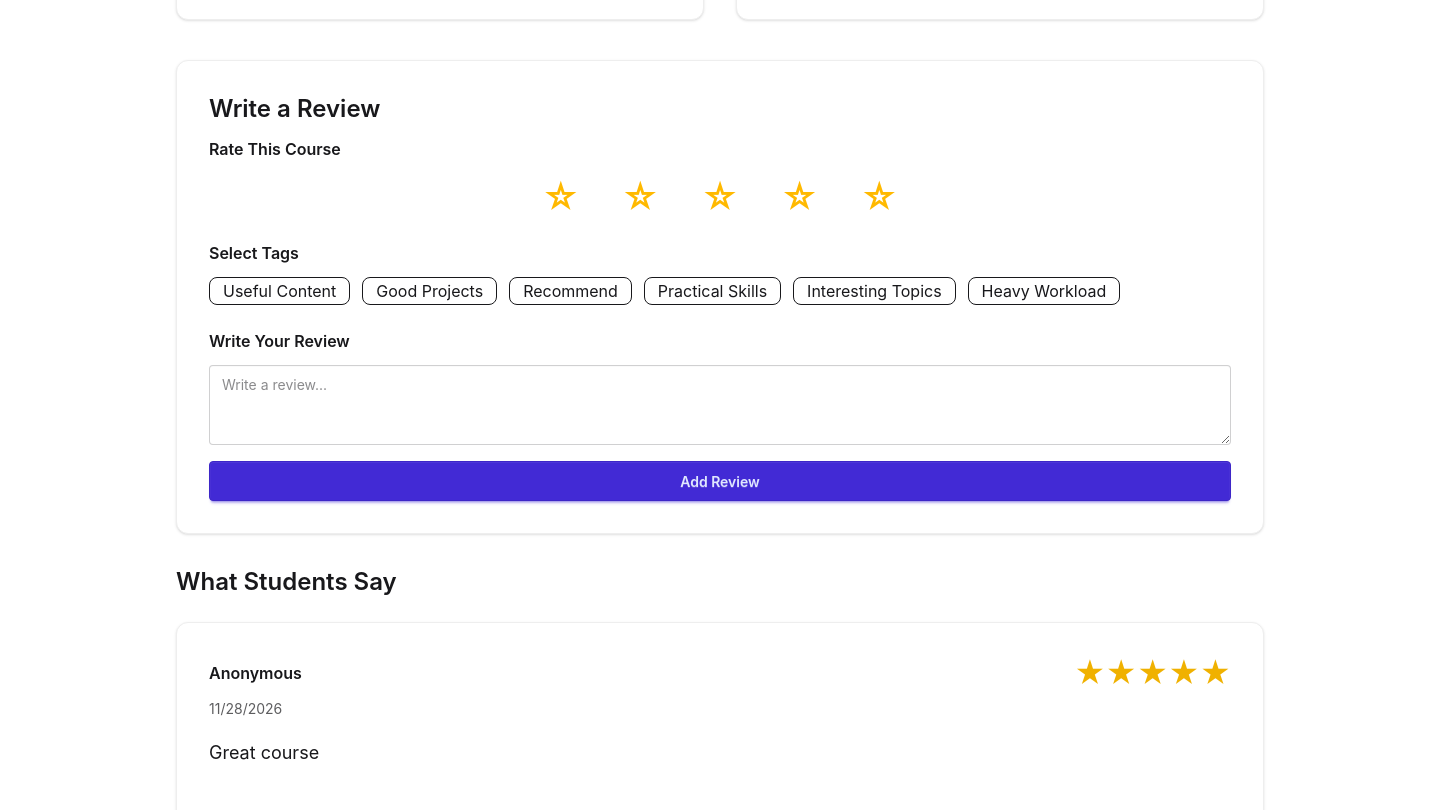
adding a review, gets displayed
The width and height of the screenshot is (1440, 810).
(page scrolled)
Type "Great course!" into the text box with placeholder "Write a review..." at (720, 405), box [209,365,1231,445]
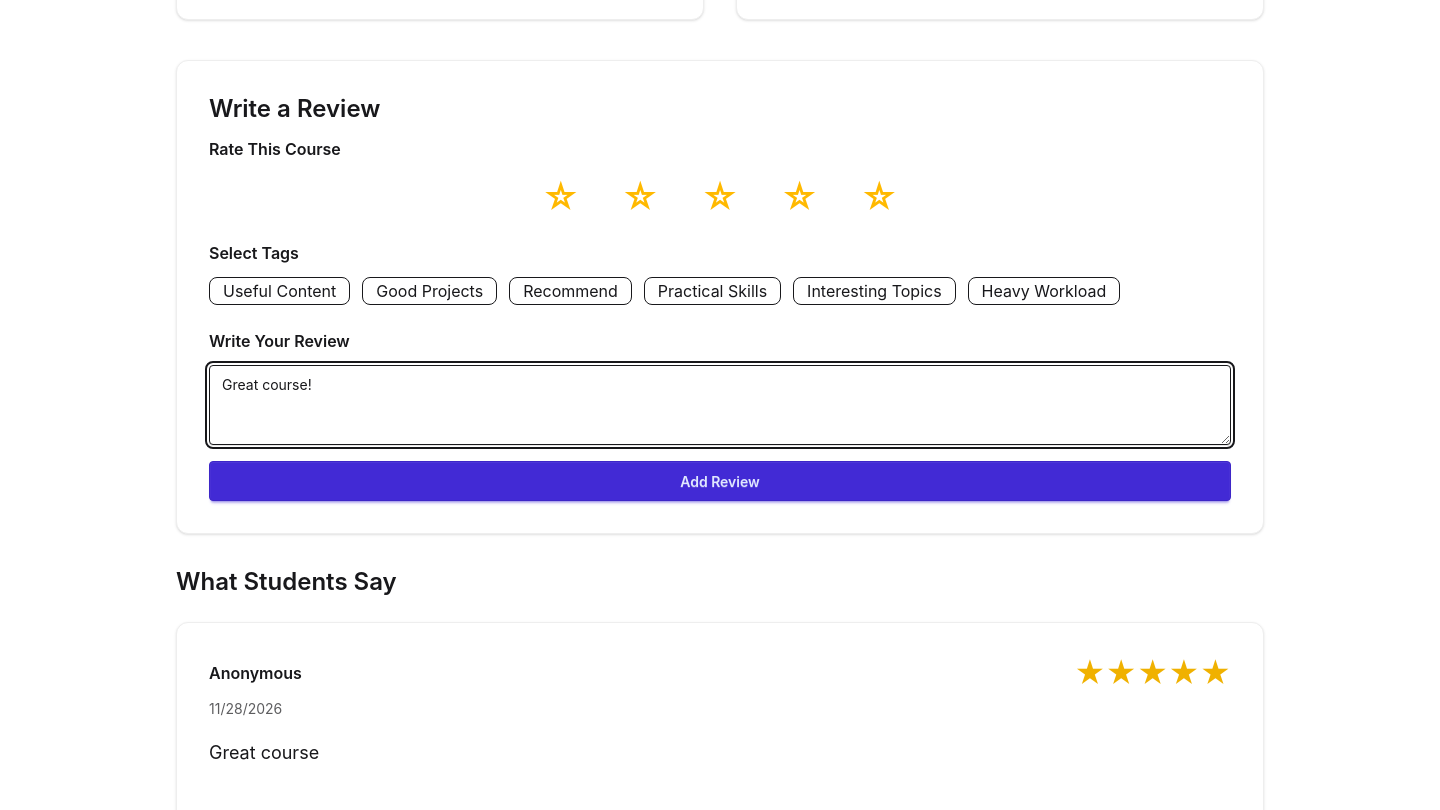
Click the button named "5 out of 5 stars" at (879, 197), box [843,177,915,217]
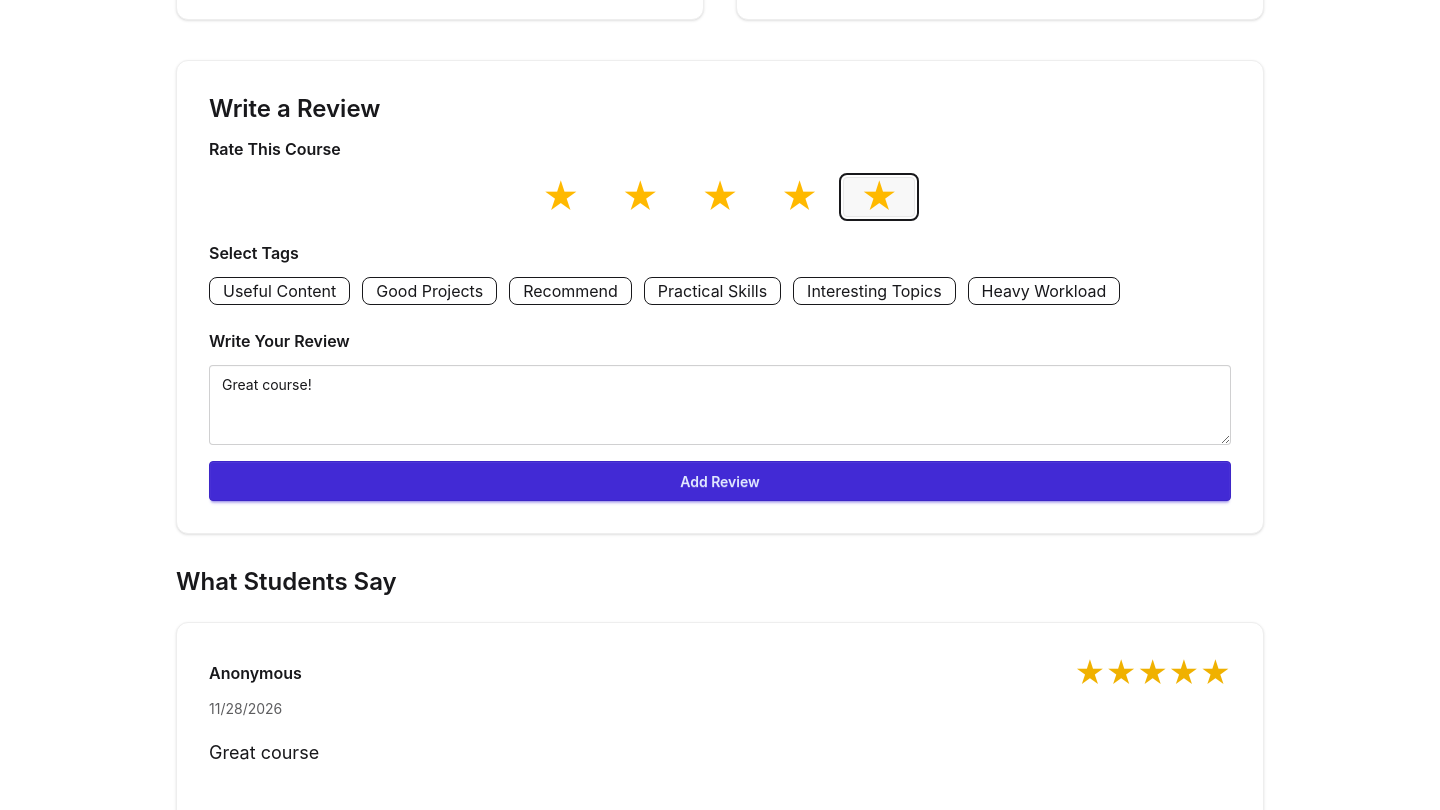
Click the button "Add Review" at (720, 481), box [209,461,1231,501]
(page scrolled)
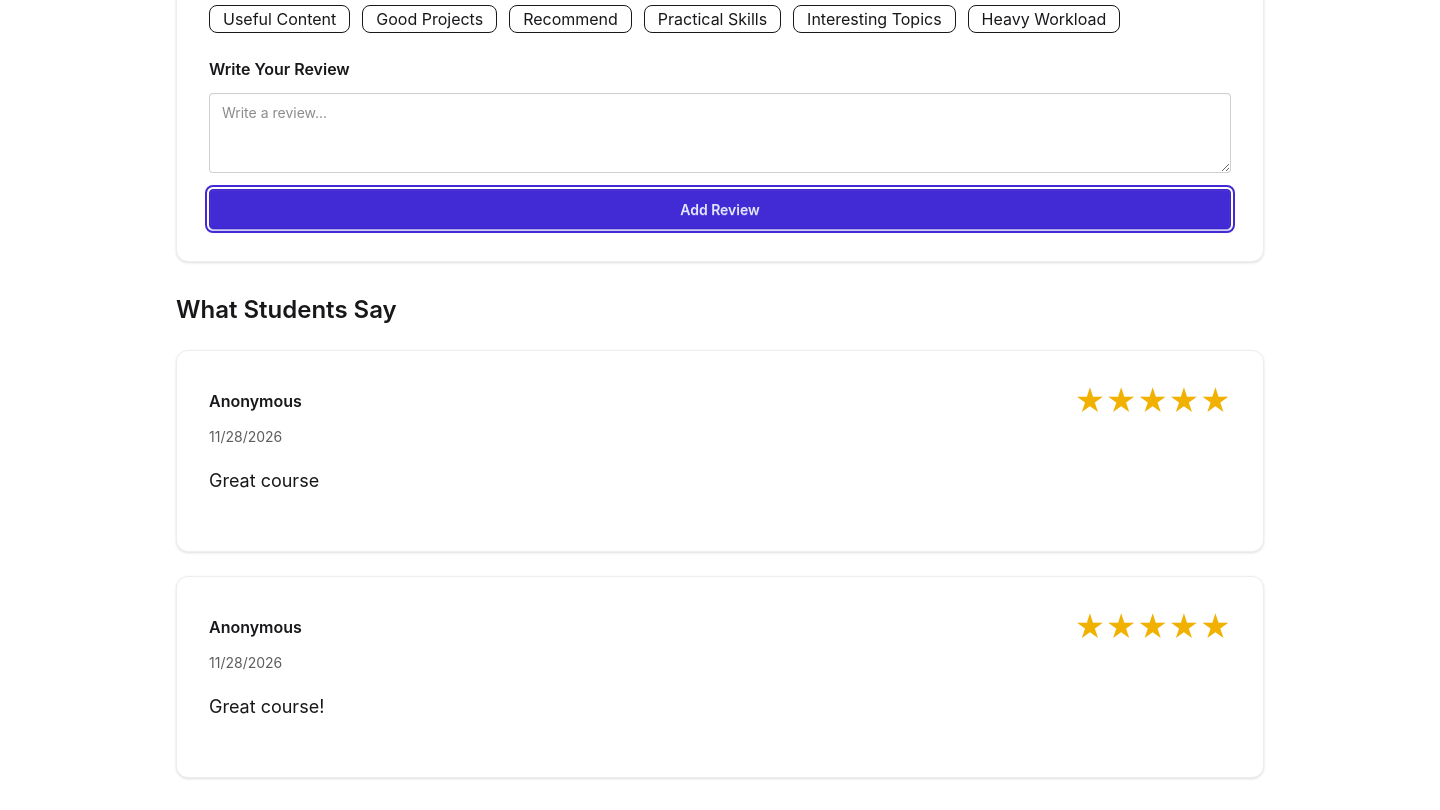
Result: the text "Great course!" is shown at [209,693,324,721]
